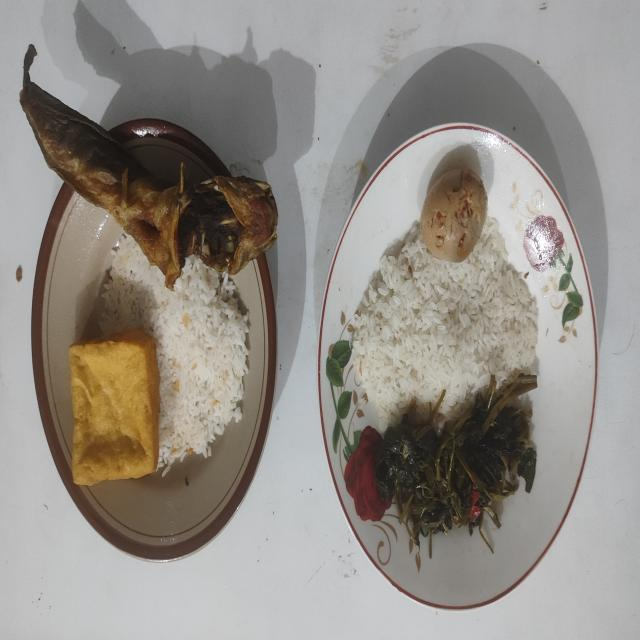nasi_putih: (352, 218, 538, 428), (100, 235, 250, 476)
tahu_goreng: (69, 330, 159, 486)
tumis_kangkung: (375, 374, 537, 550)
